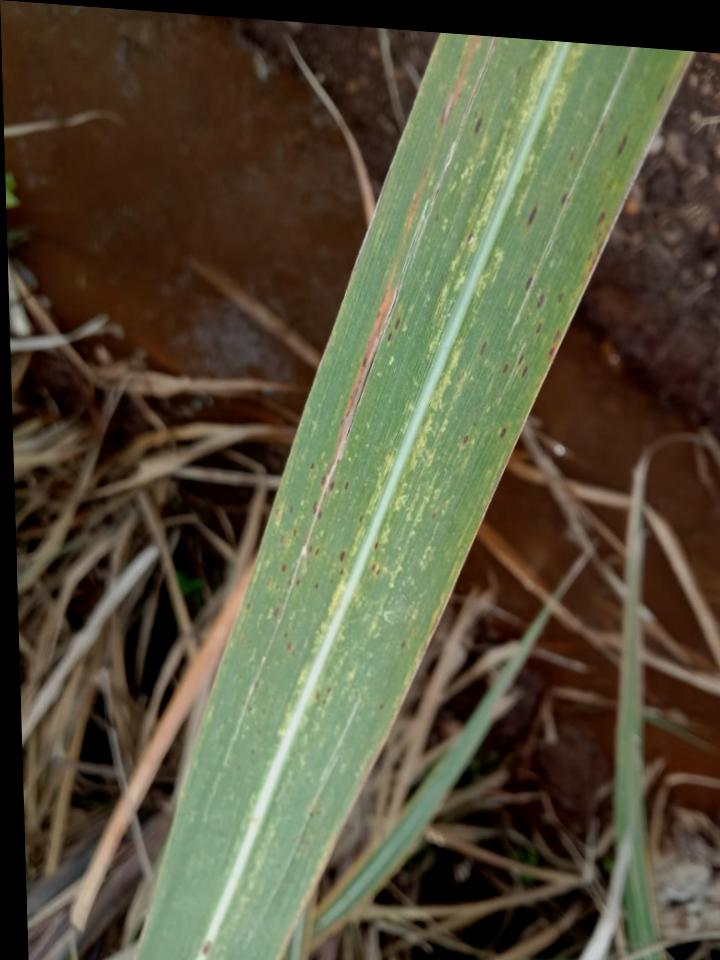Rust: (268, 457, 356, 664), (472, 267, 570, 380), (607, 133, 634, 162), (521, 201, 543, 232), (368, 538, 385, 578), (386, 312, 404, 348), (470, 108, 487, 141), (555, 190, 576, 215), (593, 208, 610, 228), (495, 423, 510, 444), (460, 430, 473, 448)
